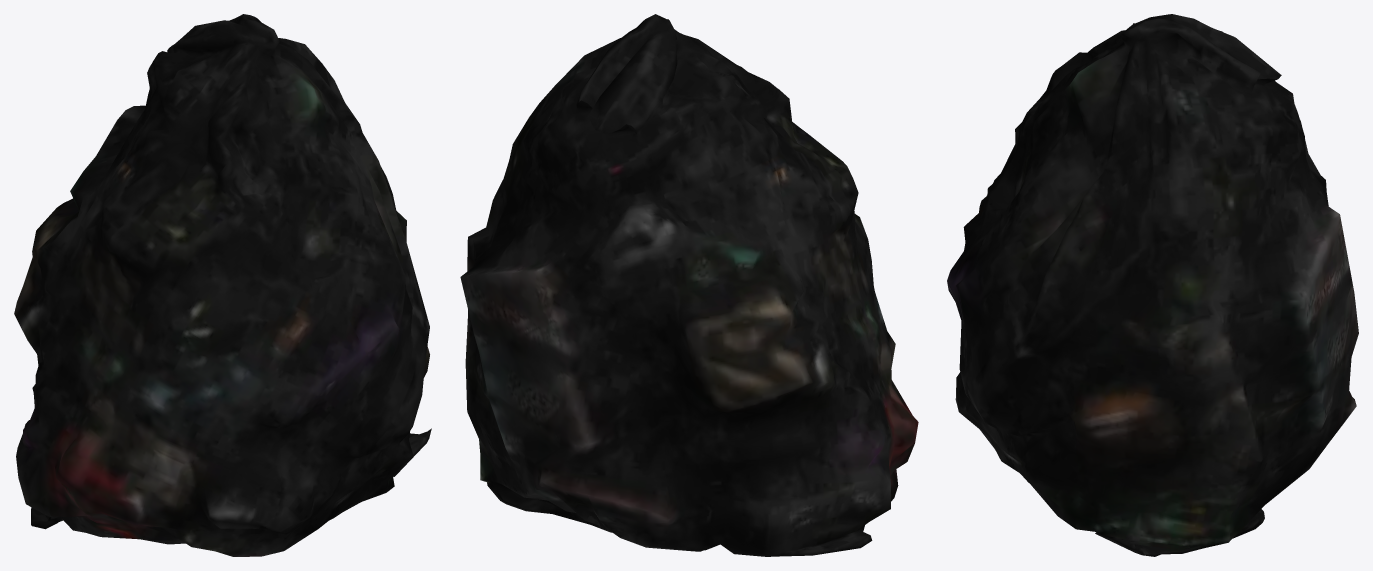
The model's file is trashbag.glb.
3 views of the same model, side by side, from view 1: azimuth 30°, elevation 25°; view 2: azimuth 150°, elevation 25°; view 3: azimuth 270°, elevation 25° (orthographic). The views are drawn at different scales.
Visible parts, largest first — view 1: trashbag; view 2: trashbag; view 3: trashbag.
Boxes of the visible parts, box(x1,y1,x2,y2) form: trashbag: box(14, 14, 431, 556); trashbag: box(460, 14, 918, 556); trashbag: box(947, 14, 1358, 556).
Size of the model in its own units: 0.5281 by 0.575 by 0.4629.
1 material, 1 textured.
